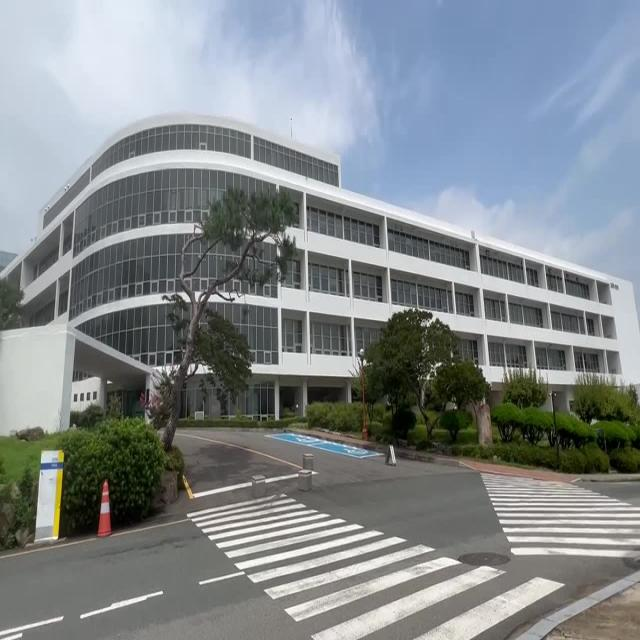building: (59, 124, 625, 368)
